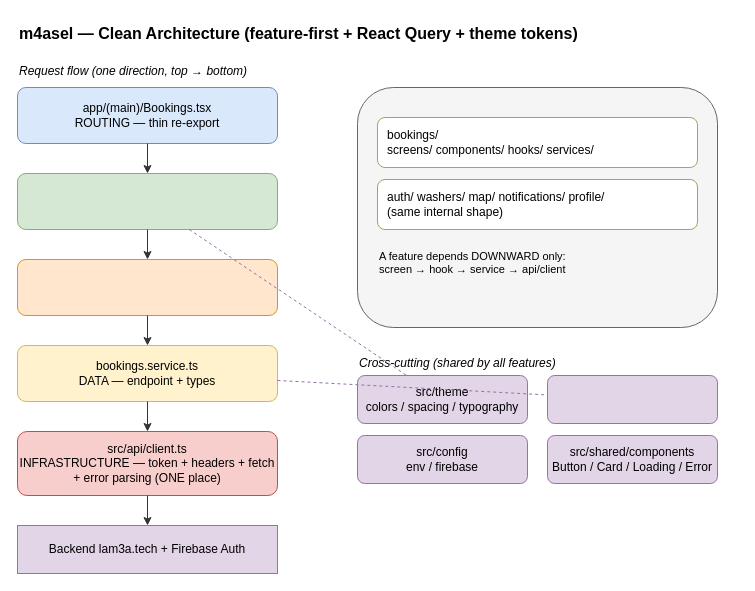
Some shapes in this 755 by 591 pixel diagram are drawn without their labels. Each missing label, with the box of its shape:
BookingsScreen.tsx PRESENTATION — UI only: (16, 172, 278, 230)
src/features/ (feature-first — each folder is self-contained): (356, 86, 718, 328)
src/types/api.ts domain types: (546, 374, 718, 424)
useBookings() APPLICATION — React Query hook: (16, 258, 278, 316)
